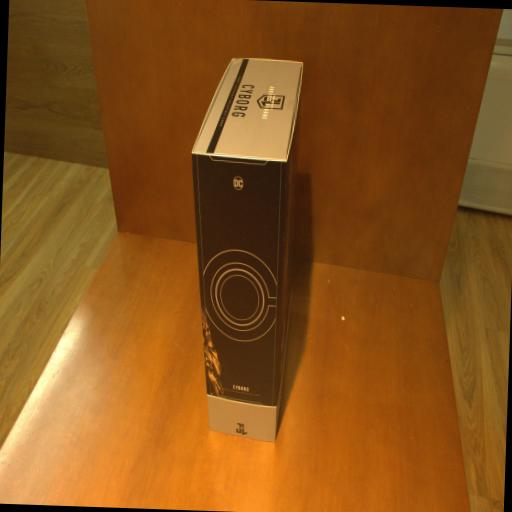Cyborg: (181, 55, 303, 443)
